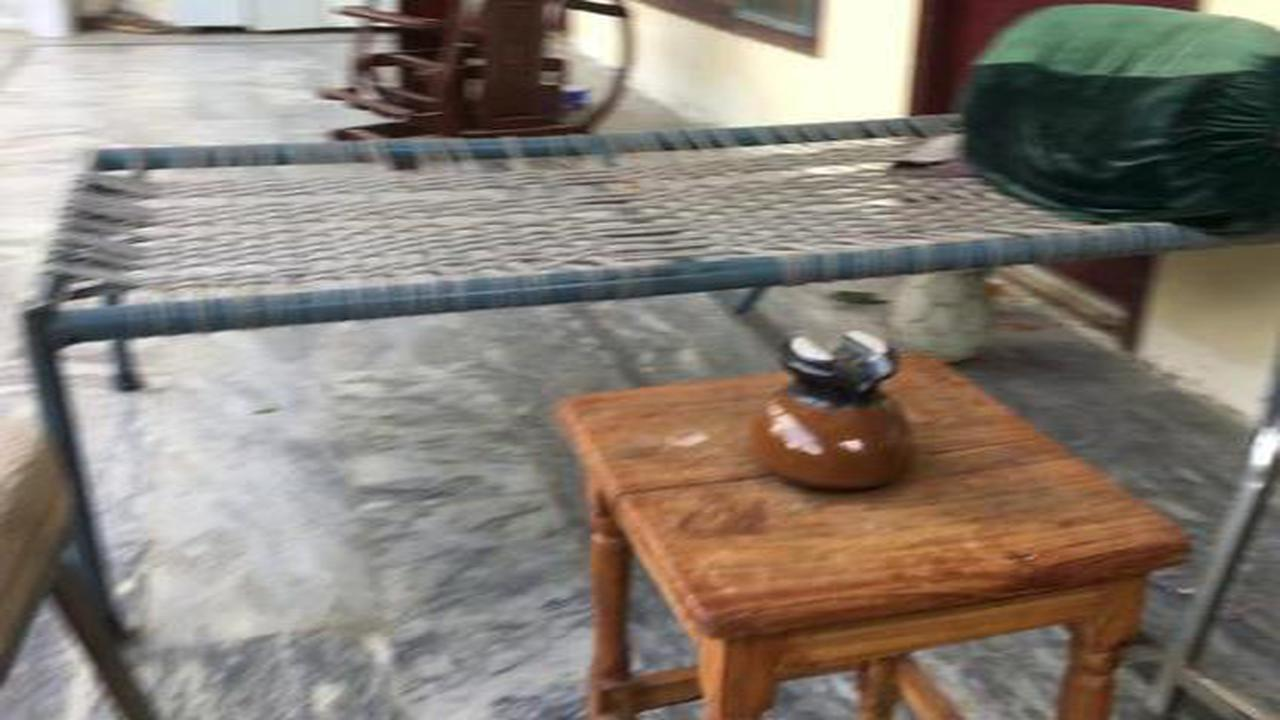insulator_pin: (742, 314, 936, 506)
